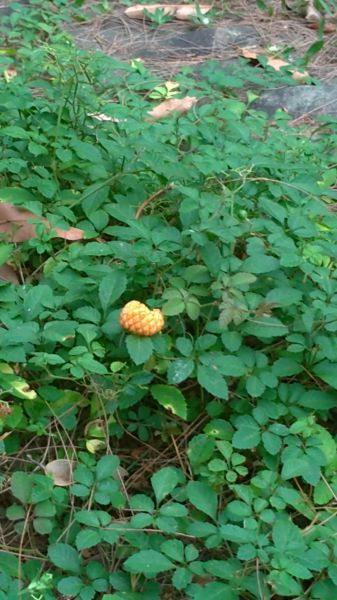eggs: (120, 300, 166, 338)
